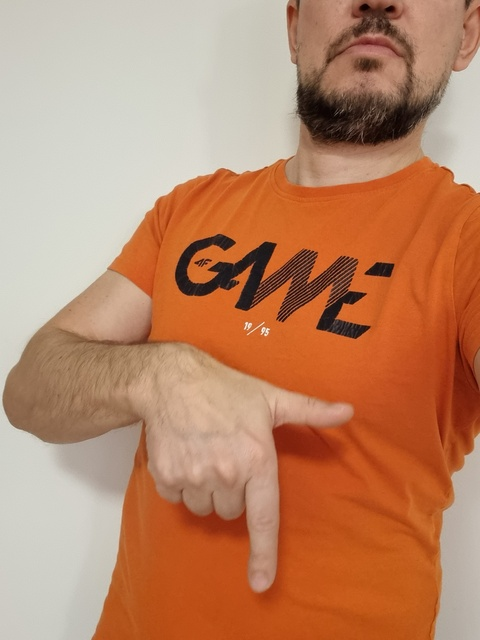GestDown: (156, 387, 353, 595)
